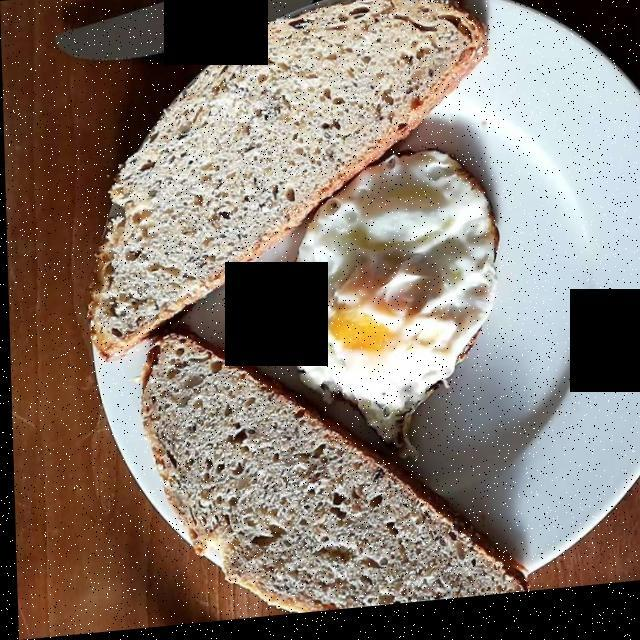egg: (264, 160, 491, 446)
